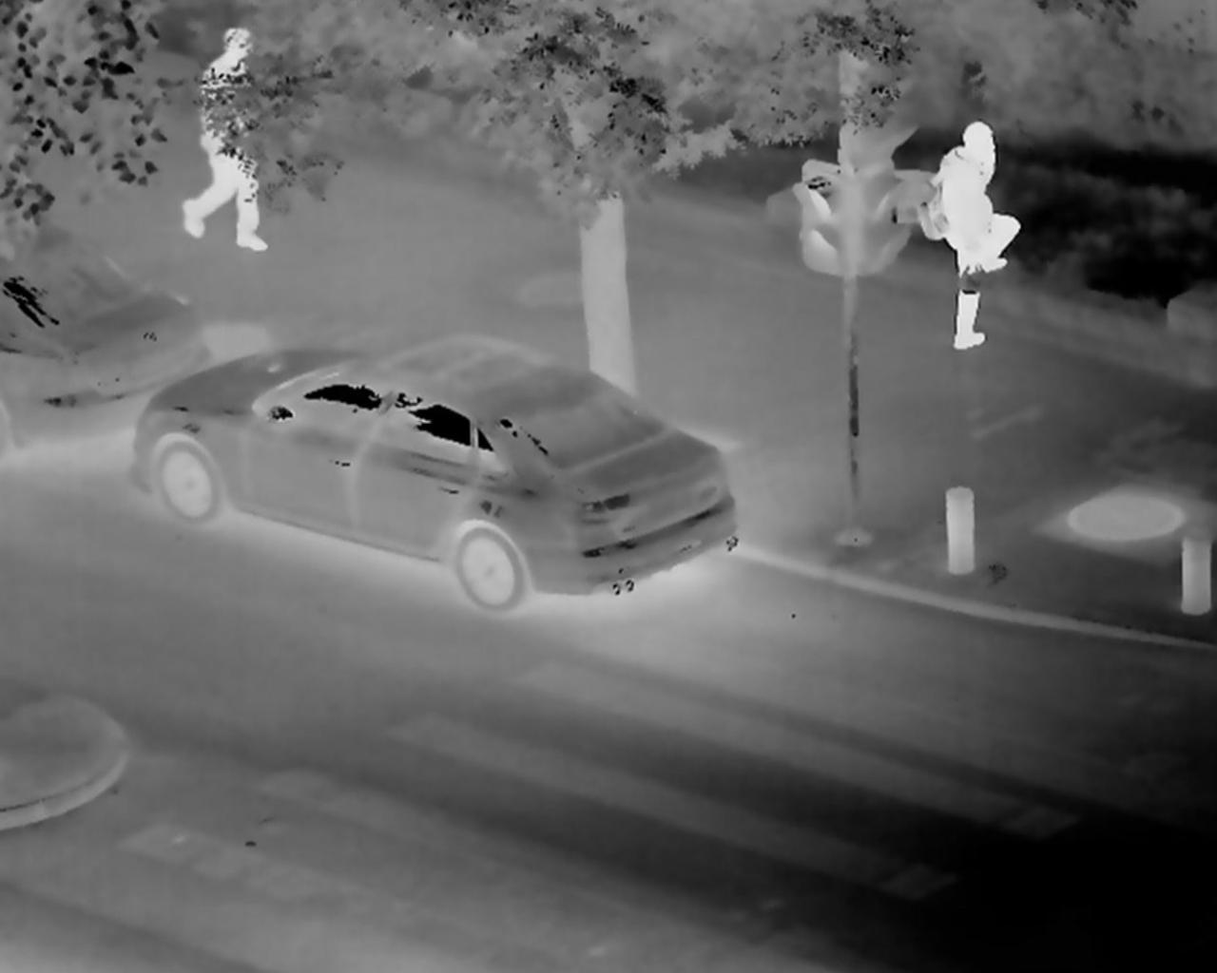person: (914, 105, 1030, 368), (187, 18, 283, 261)
